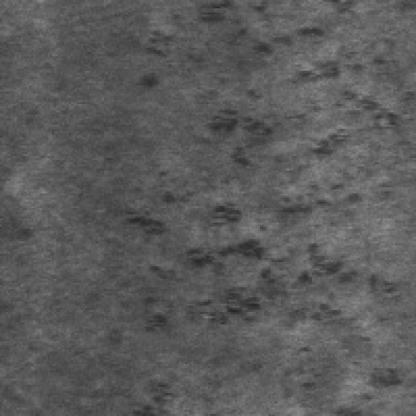rolled-in_scale: (139, 124, 404, 368), (176, 0, 378, 170)
